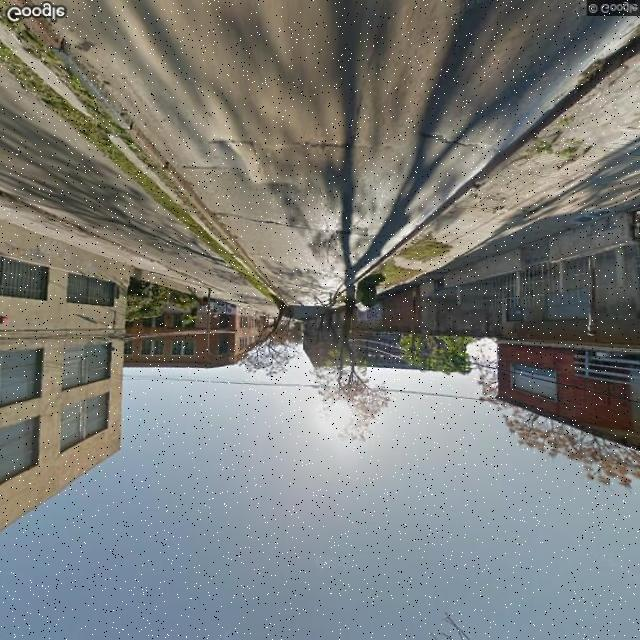garbage container: (352, 279, 387, 317)
